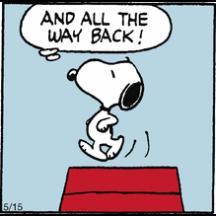snoopy: (67, 55, 145, 163)
